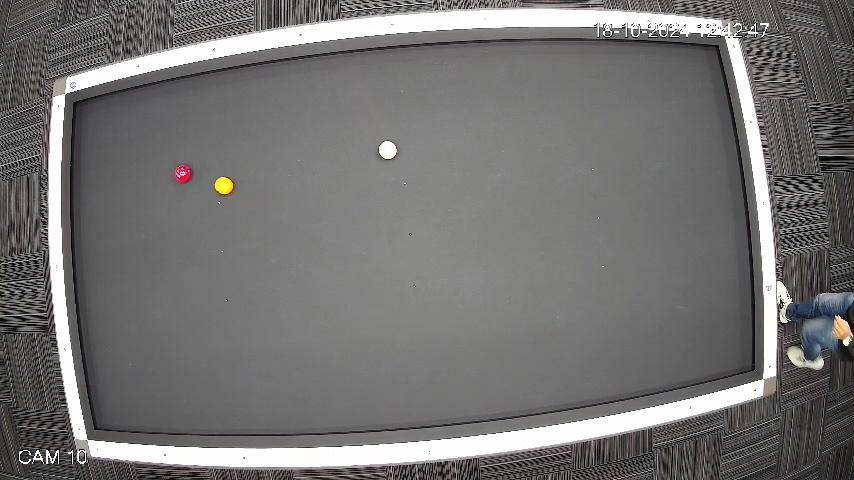Red: (173, 164, 193, 184)
White: (378, 140, 399, 162)
Yellow: (214, 175, 235, 195)
